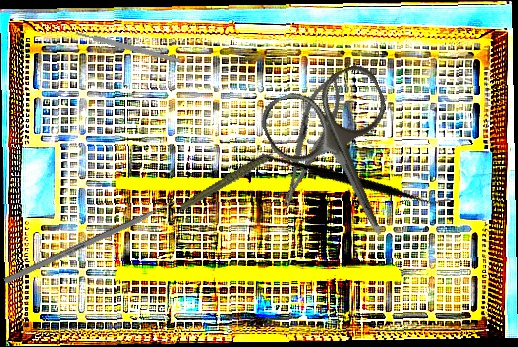Handpiece: (171, 146, 296, 212)
Iris Scissors: (254, 59, 435, 260)
Needle Holder: (269, 68, 351, 213)
Pusher: (3, 192, 191, 285)
Scalpel Handle: (75, 29, 182, 65)
Spatula Surgical: (245, 103, 453, 259)
